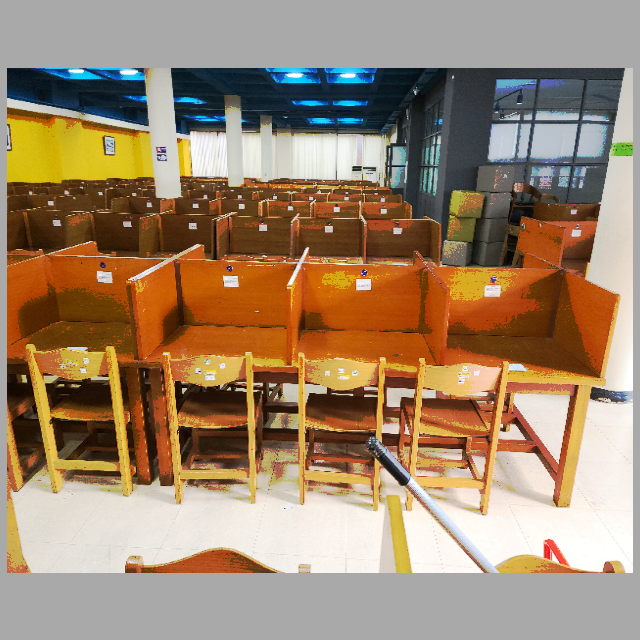empty: (440, 265, 612, 429), (293, 262, 428, 423), (144, 264, 285, 416)
